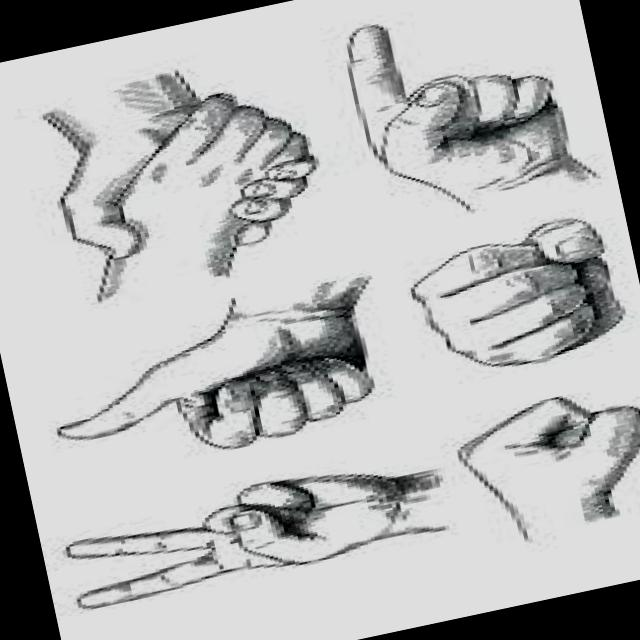Hand: (53, 443, 456, 618), (36, 299, 386, 485), (328, 0, 584, 206), (40, 98, 294, 282), (392, 206, 632, 388), (93, 72, 324, 258), (443, 375, 640, 559)
